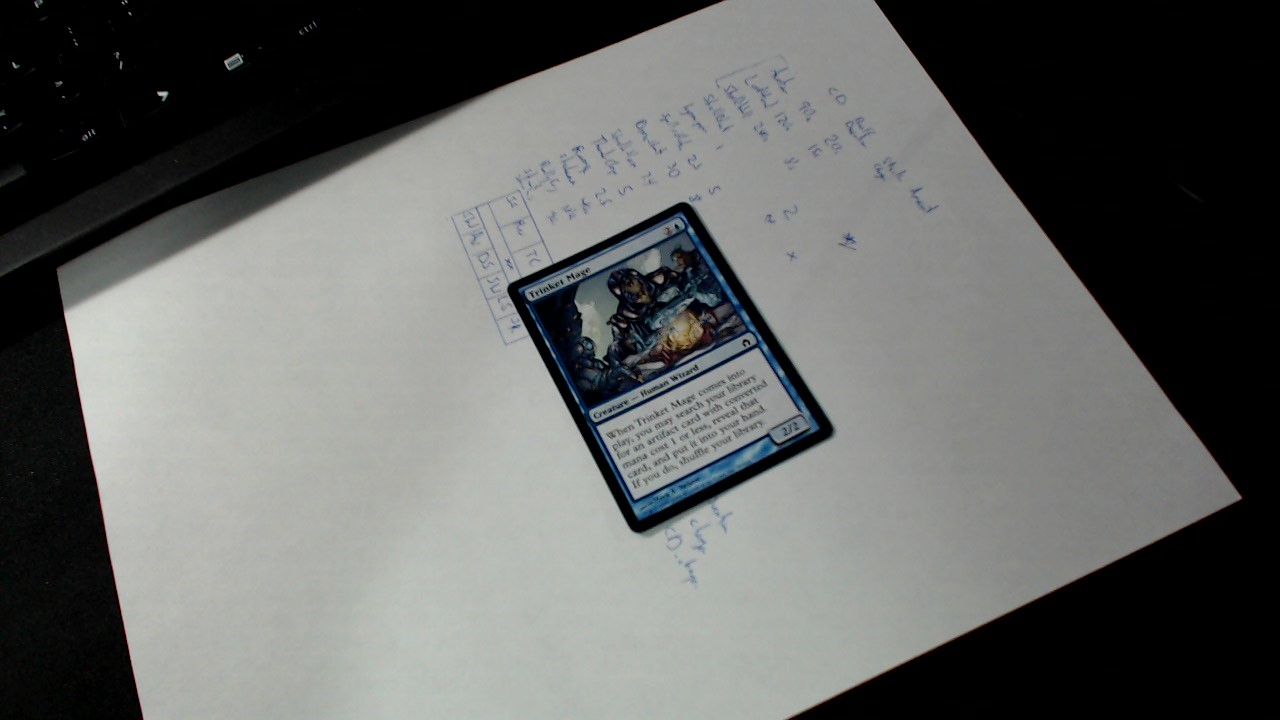MTG Card: (498, 201, 840, 538)
